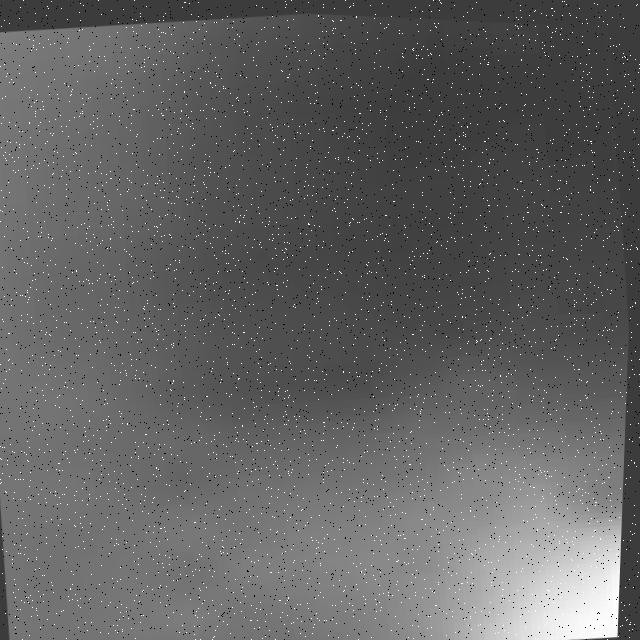person: (156, 422, 629, 640)
